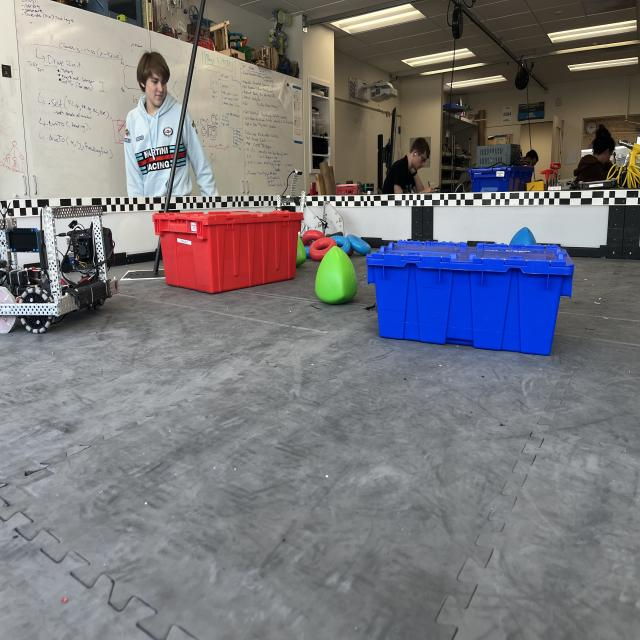Blue-Ring: (348, 235, 371, 255), (331, 235, 351, 255)
Red-Ring: (309, 237, 336, 262), (301, 230, 325, 245)
